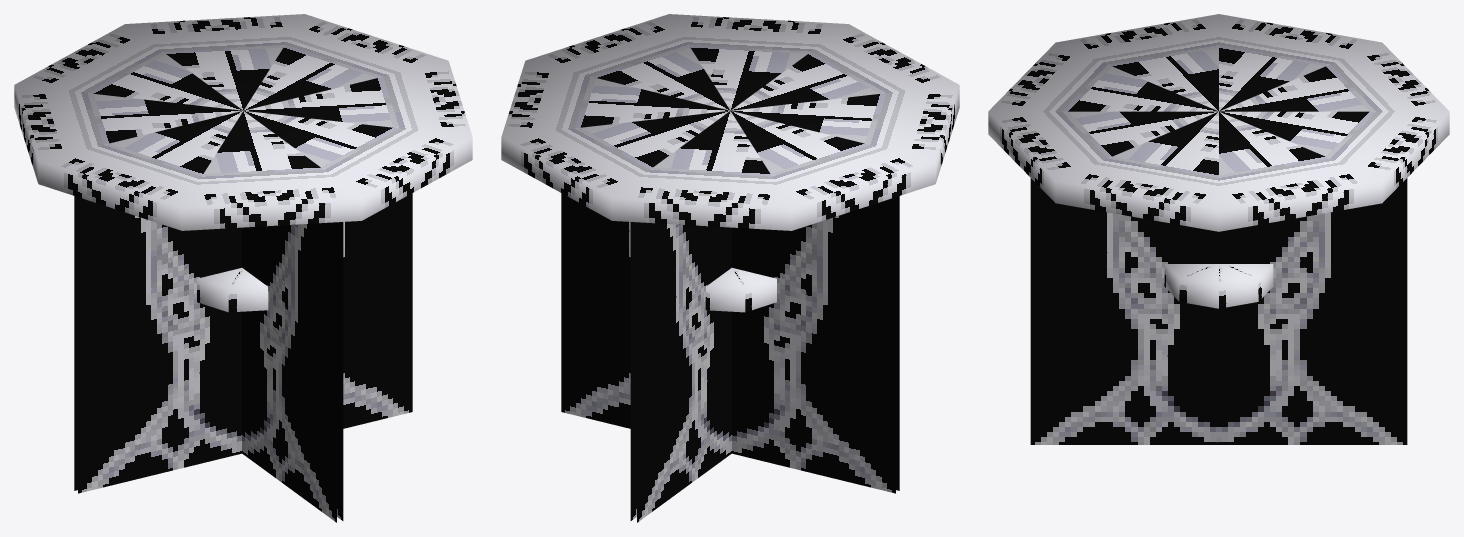
The picture shows the model from 3 angles, left to right: view 1: azimuth 30°, elevation 25°; view 2: azimuth 150°, elevation 25°; view 3: azimuth 270°, elevation 25°; orthographic projection. The views are drawn at different scales.
Parts seen in each view (by area): view 1: 3429IMIG20_28; view 2: 3429IMIG20_28; view 3: 3429IMIG20_28.
Part boxes in pixels (box(x1,y1,x2,y2)): 3429IMIG20_28: box(14, 14, 472, 522); 3429IMIG20_28: box(501, 14, 959, 522); 3429IMIG20_28: box(988, 14, 1449, 444).
Size of the model in its own units: 0.9453 by 0.75 by 0.9453.
1 material, 1 textured.
